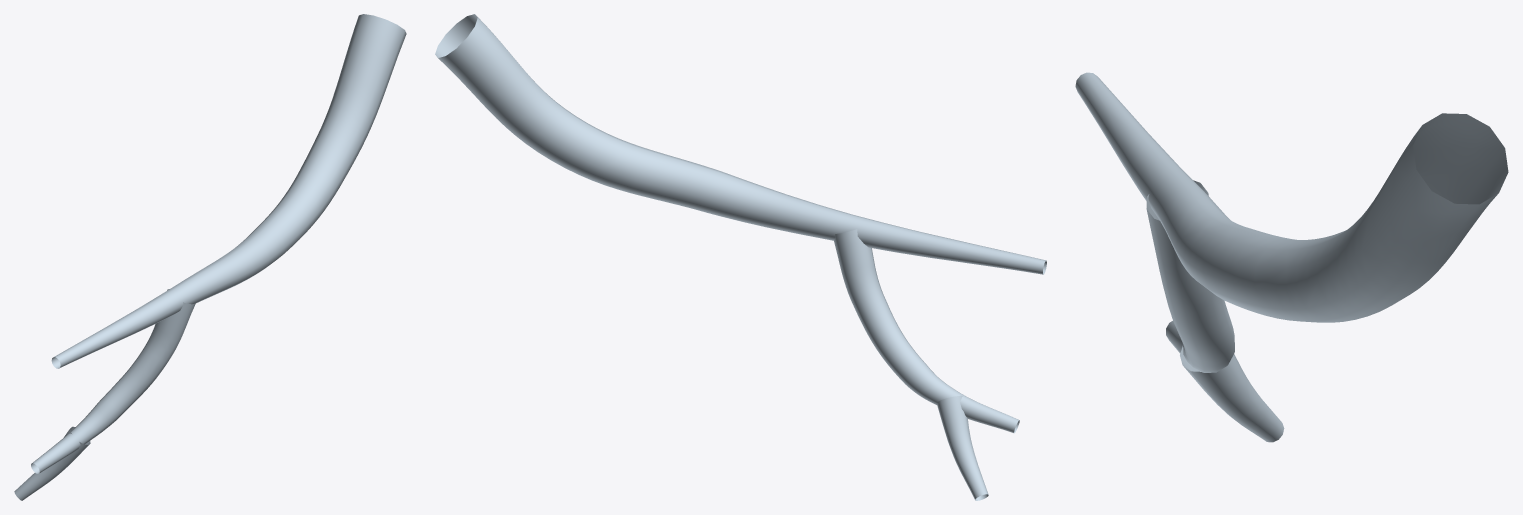
Rendered from visceras-anterior-basal-segmental-bronchus-of-right-lung-bviii.glb.
3 renders of one model, left to right at view 1: azimuth 30°, elevation 25°; view 2: azimuth 150°, elevation 25°; view 3: azimuth 270°, elevation 25°, orthographic. The views are drawn at different scales.
Visible parts, largest first — view 1: Anterior basal segmental bronchus of right lung (BVIII); view 2: Anterior basal segmental bronchus of right lung (BVIII); view 3: Anterior basal segmental bronchus of right lung (BVIII).
Boxes of the visible parts, bbox=[...] form: Anterior basal segmental bronchus of right lung (BVIII): bbox=[14, 14, 406, 500]; Anterior basal segmental bronchus of right lung (BVIII): bbox=[435, 14, 1046, 500]; Anterior basal segmental bronchus of right lung (BVIII): bbox=[1075, 72, 1508, 442].
Size of the model in its own units: 0.0791 by 0.0614 by 0.0338.
